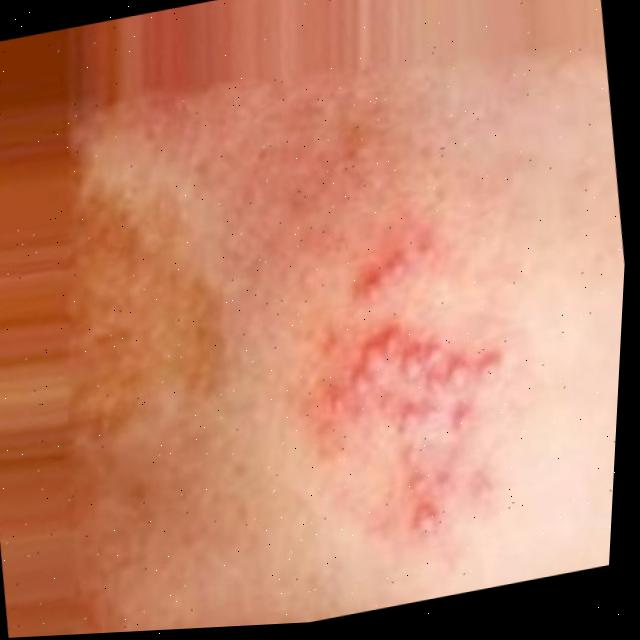Shingles: (293, 220, 538, 574)
